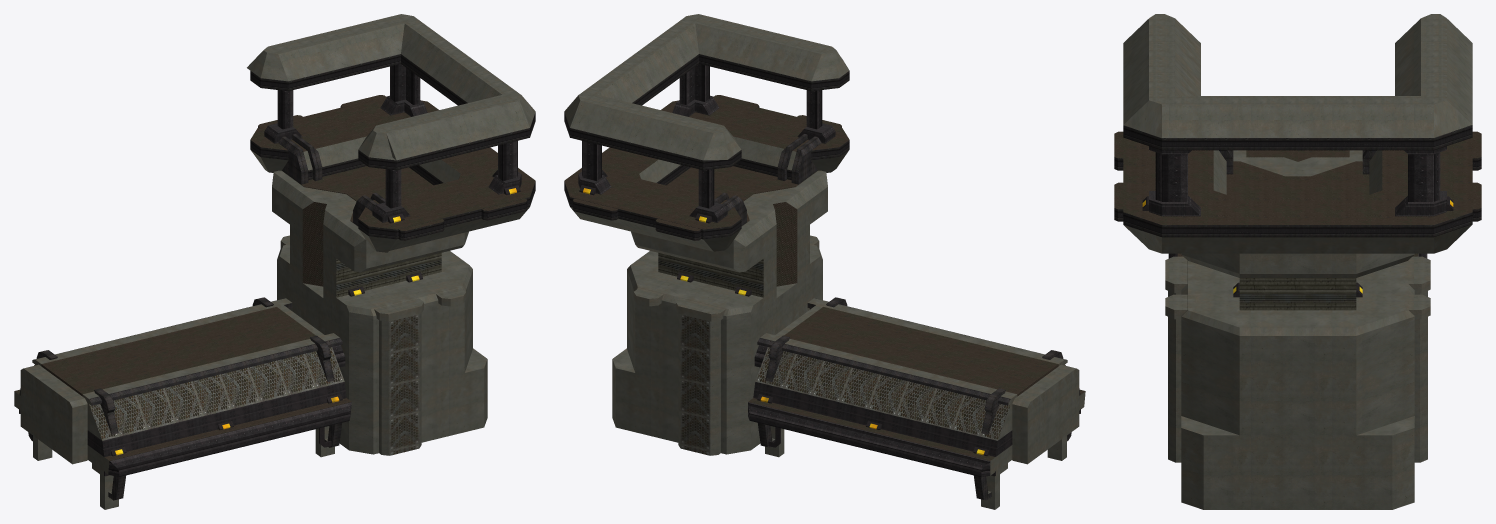
File: barricadezig1.fbx
3 renders of one model, left to right at view 1: azimuth 30°, elevation 25°; view 2: azimuth 150°, elevation 25°; view 3: azimuth 270°, elevation 25°, orthographic. The views are drawn at different scales.
Parts seen in each view (by area): view 1: Object; view 2: Object; view 3: Object.
Part boxes in pixels (box(x1,y1,x2,y2)): Object: box(14, 14, 535, 509); Object: box(564, 14, 1085, 509); Object: box(1114, 14, 1481, 509).
Size of the model in its own units: 12388 by 9000 by 7200.
